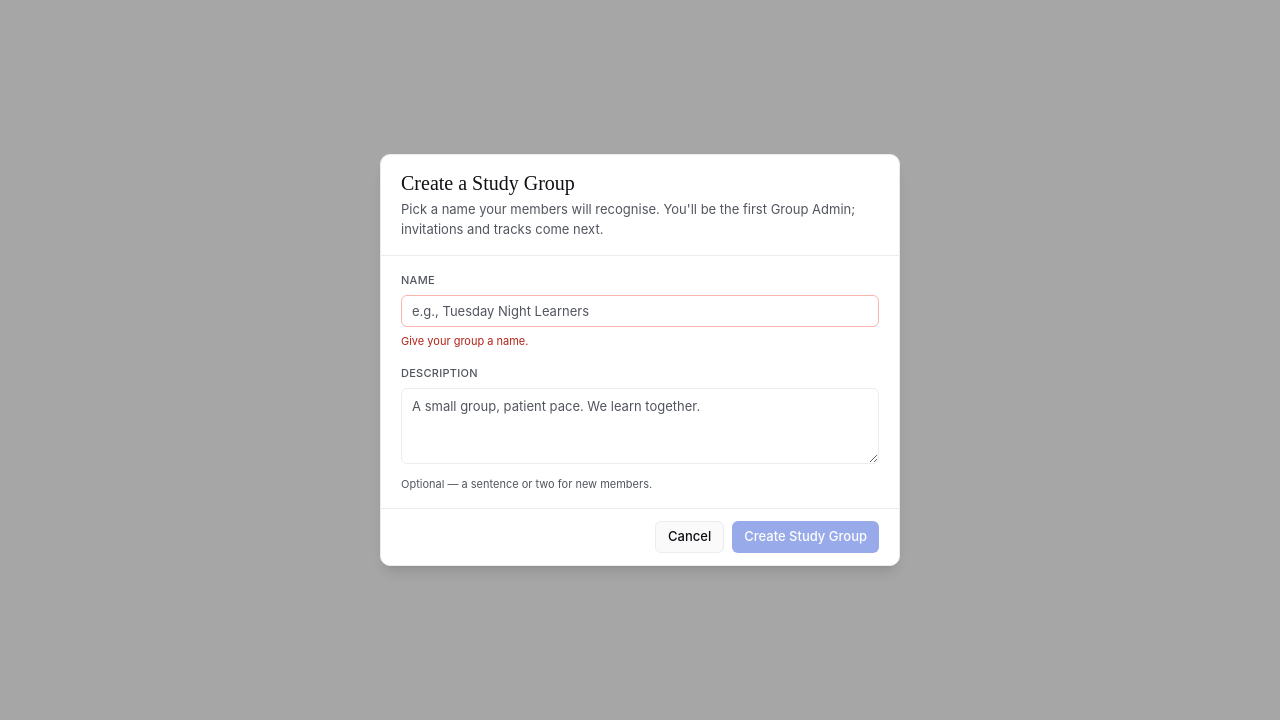
Test: CreateGroupDialog submit › maps a thrown server error onto the name field with the a11y contract
In the field labelled "Name": (640, 310) [401,294,879,326], type "Dupe"
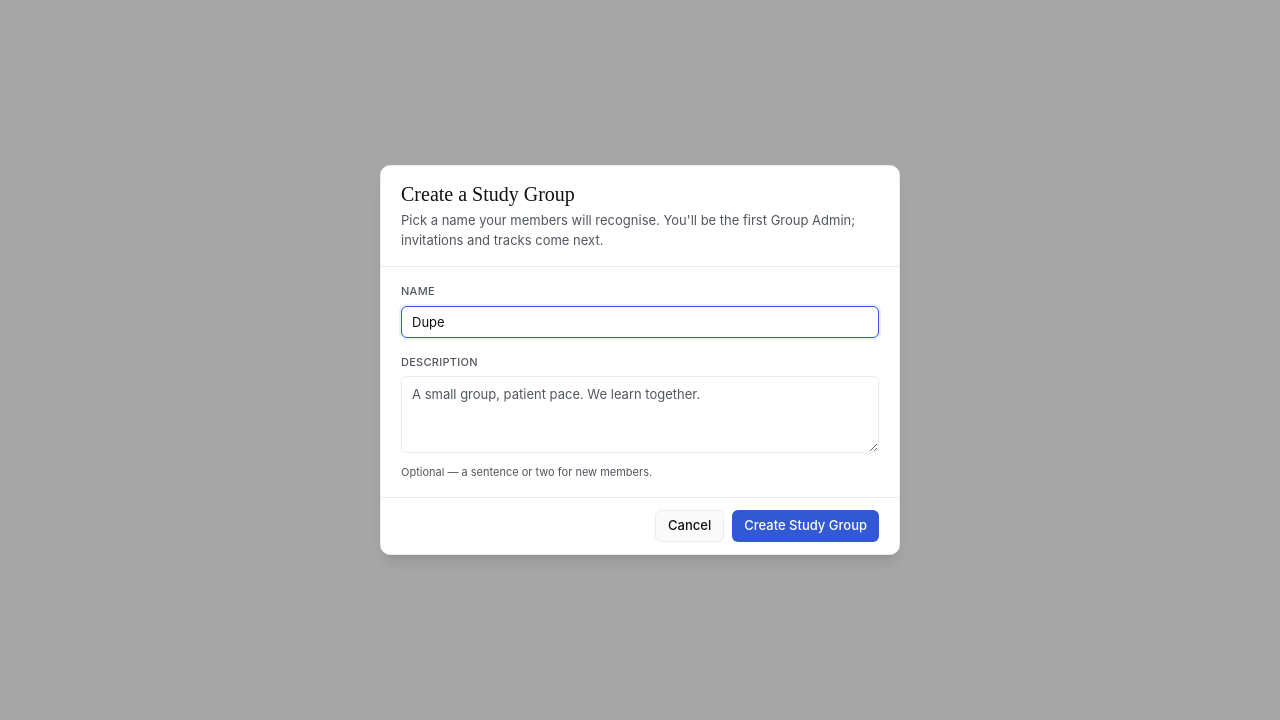
Click the button "Create Study Group": (806, 526) [732,510,879,542]
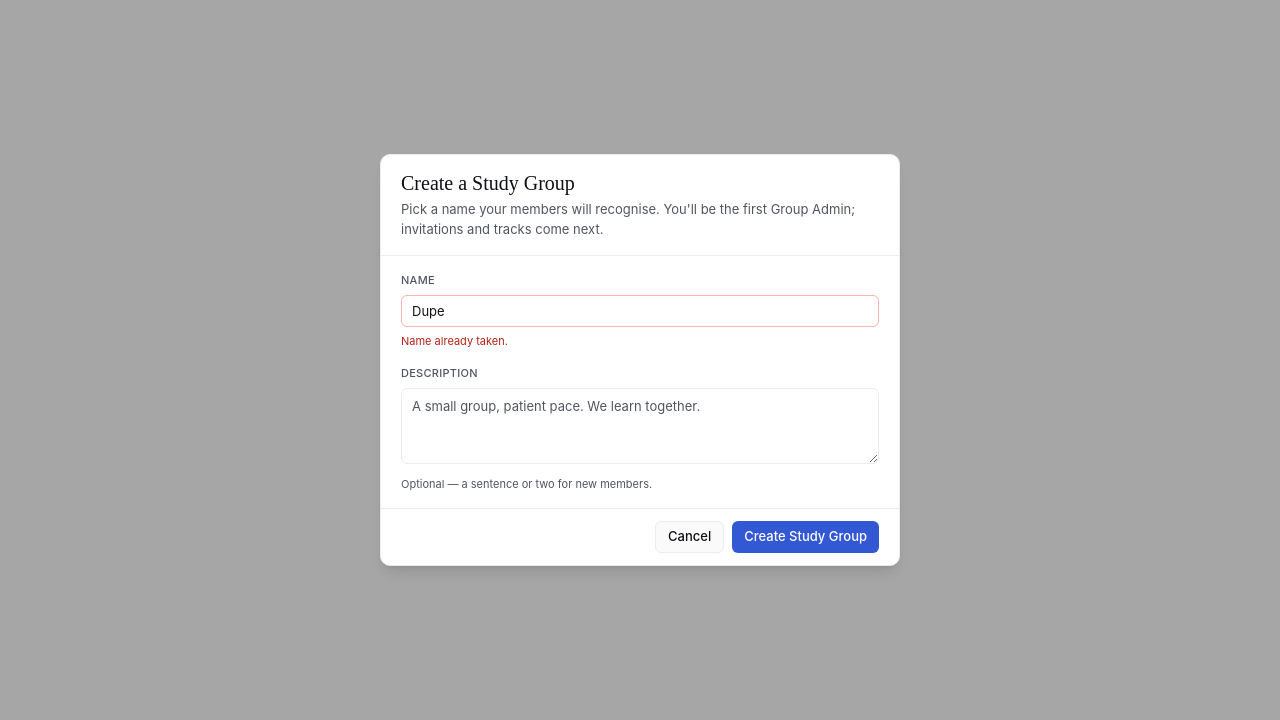
expect the text "Name already taken." is shown: met, box [401,334,508,348]
